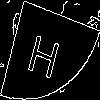H: (25, 25, 64, 80)
